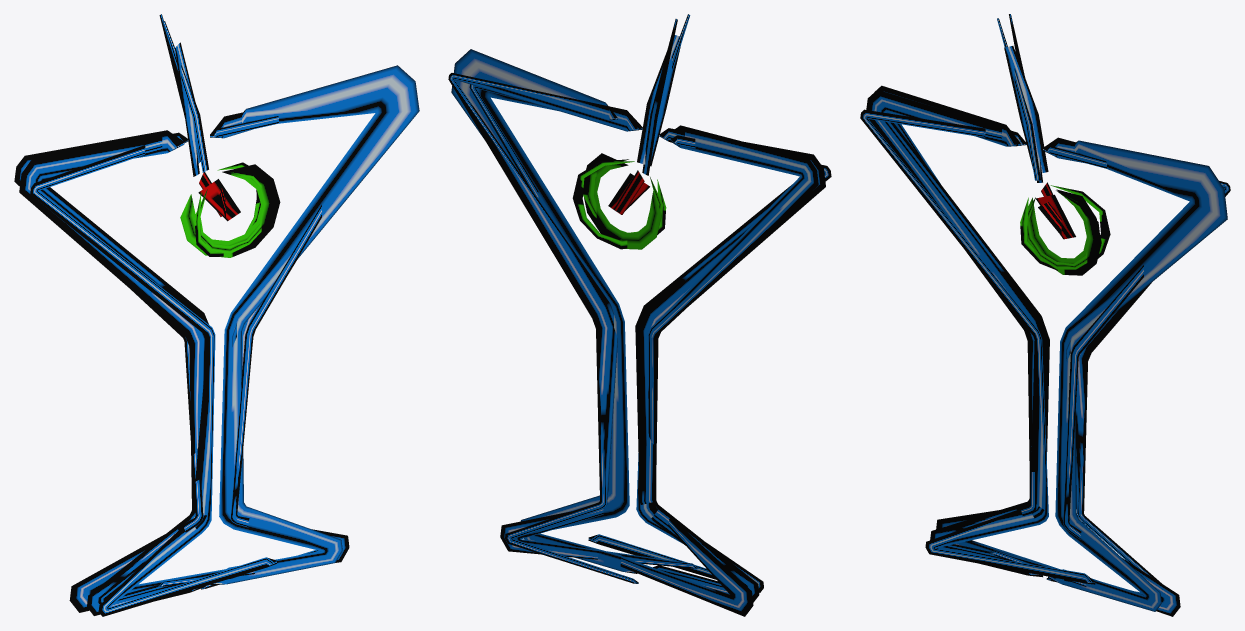
Rendered from Matini_glass.FBX.
3 renders of one model, left to right at view 1: azimuth 30°, elevation 25°; view 2: azimuth 150°, elevation 25°; view 3: azimuth 330°, elevation 25°, orthographic. The views are drawn at different scales.
Visible parts, largest first — view 1: Matini_glass; view 2: Matini_glass; view 3: Matini_glass.
Boxes of the visible parts, left/top/right/bottom form: Matini_glass: left=14, top=14, right=419, bottom=616; Matini_glass: left=448, top=14, right=831, bottom=616; Matini_glass: left=860, top=14, right=1230, bottom=616.
Size of the model in its own units: 1.43 by 2.05 by 0.1359.
